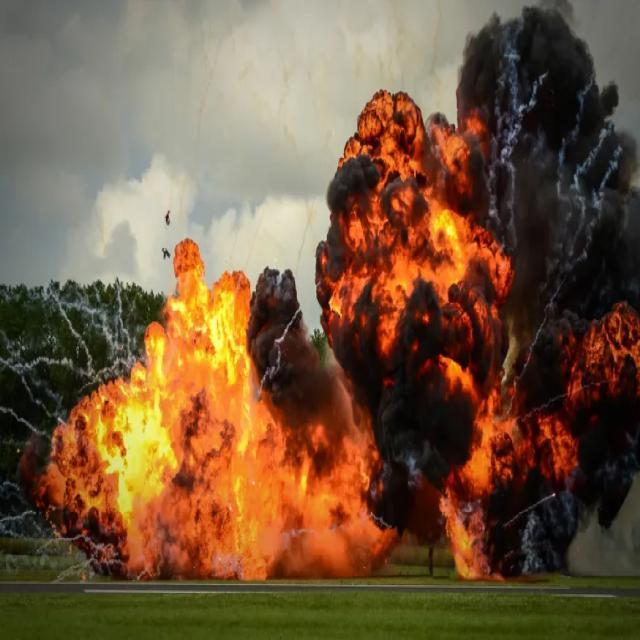fire: (323, 101, 639, 564), (56, 273, 314, 582)
